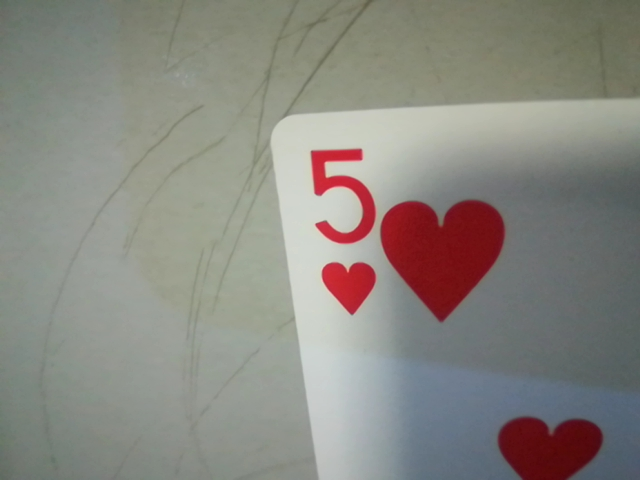hx 5: (297, 140, 386, 325)
